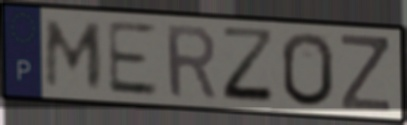E: (104, 18, 161, 98)
M: (42, 17, 105, 91)
O: (279, 30, 336, 109)
R: (163, 23, 220, 102)
Z: (219, 24, 278, 107), (338, 31, 394, 114)
